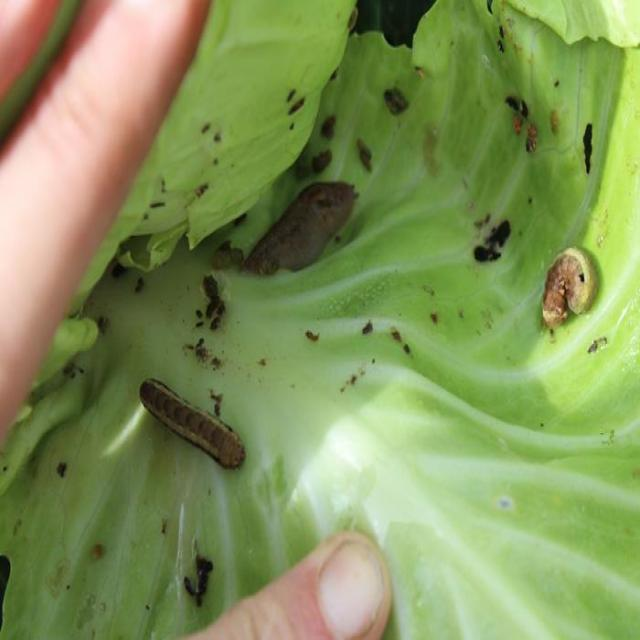armyworm: (134, 369, 255, 481), (542, 251, 595, 330)
